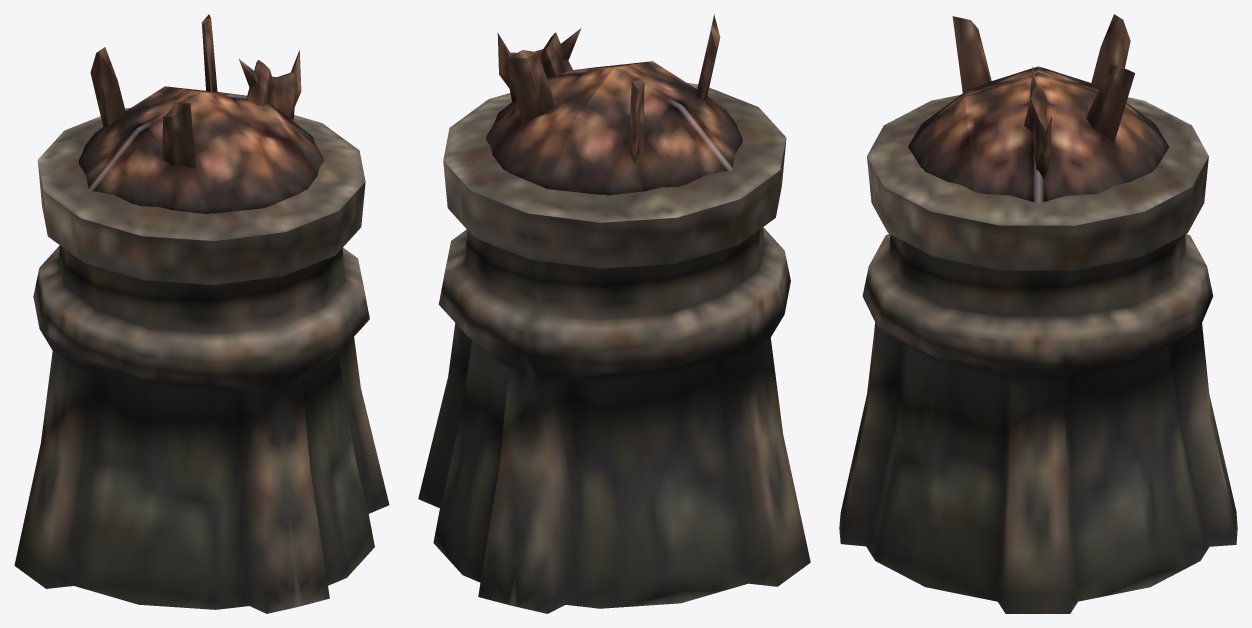
File: SM_zhucheng_huopen02.FBX
The picture shows the model from 3 angles, left to right: view 1: azimuth 30°, elevation 25°; view 2: azimuth 150°, elevation 25°; view 3: azimuth 270°, elevation 25°; orthographic projection. The views are drawn at different scales.
Parts seen in each view (by area): view 1: SM_zhucheng_huopen02; view 2: SM_zhucheng_huopen02; view 3: SM_zhucheng_huopen02.
Part boxes in pixels (<box>): SM_zhucheng_huopen02: <box>14,14,389,613</box>; SM_zhucheng_huopen02: <box>418,14,810,613</box>; SM_zhucheng_huopen02: <box>839,14,1237,613</box>.
Bounding box in the file's own units: 37.28 × 49.42 × 36.71.
